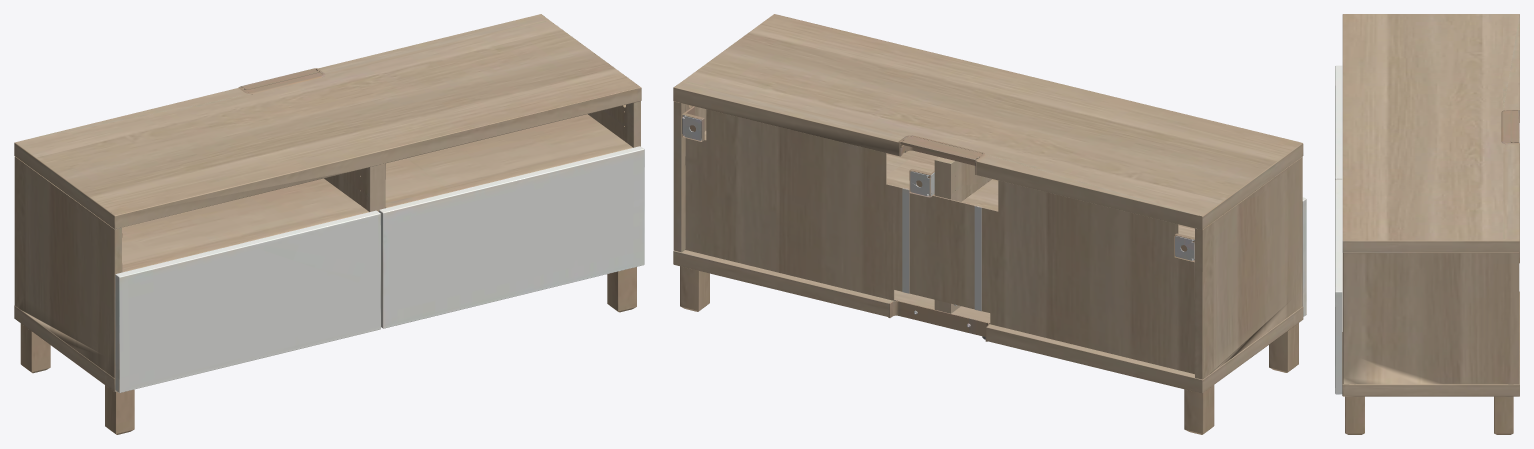
The picture shows the model from 3 angles, left to right: view 1: azimuth 30°, elevation 25°; view 2: azimuth 150°, elevation 25°; view 3: azimuth 270°, elevation 25°; orthographic projection. The views are drawn at different scales.
Visible parts, largest first — view 1: 70294513-BESTÃƒâ€¦001; view 2: 70294513-BESTÃƒâ€¦001; view 3: 70294513-BESTÃƒâ€¦001.
Boxes of the visible parts, box(x1,y1,x2,y2) form: 70294513-BESTÃƒâ€¦001: box(14, 14, 644, 434); 70294513-BESTÃƒâ€¦001: box(673, 14, 1306, 434); 70294513-BESTÃƒâ€¦001: box(1335, 14, 1519, 434).
Bounding box in the file's own units: 1.2 × 0.4874 × 0.4125.
Materials: 1 (1 with a texture image).
